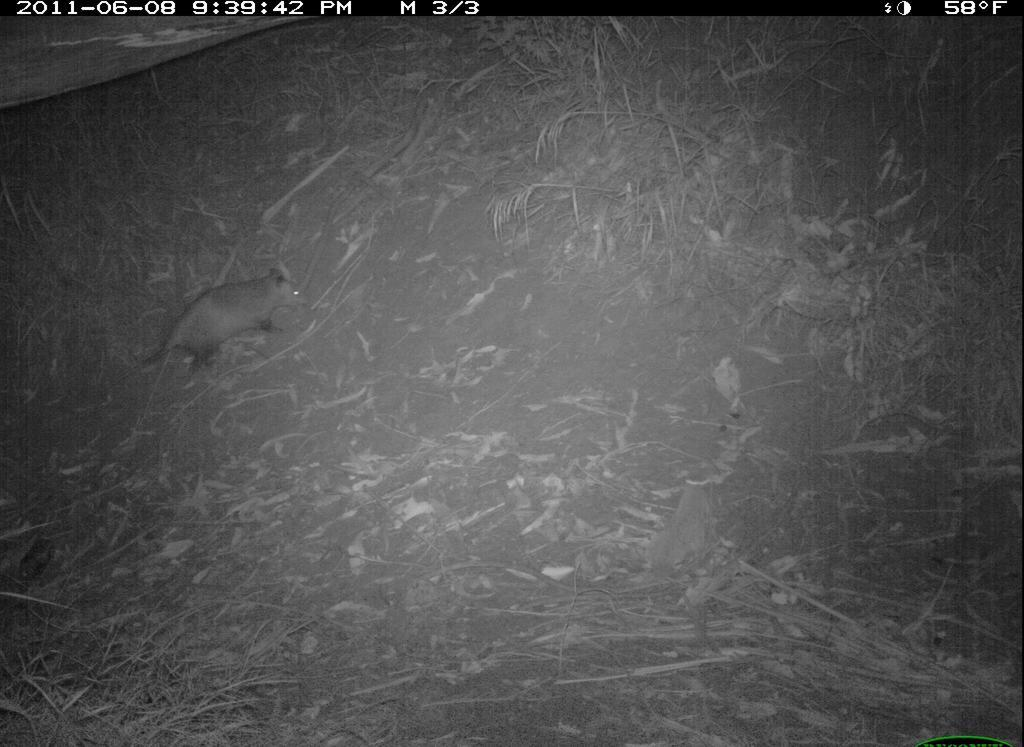opossum: (108, 258, 315, 399)
